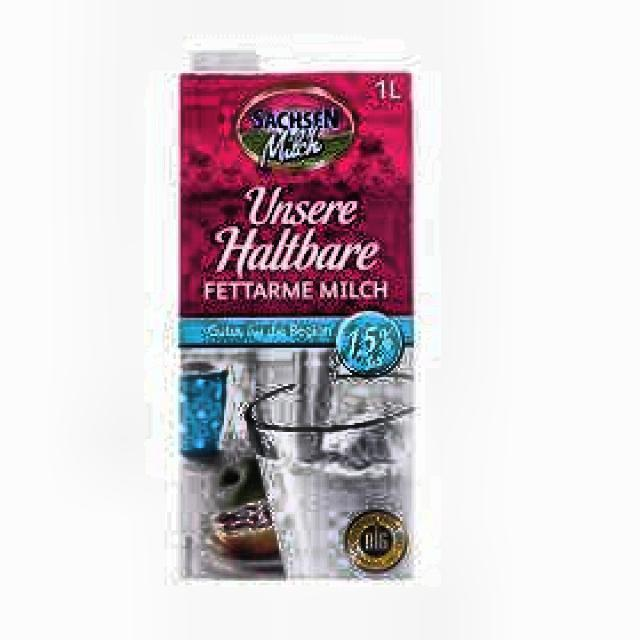cardboard: (174, 66, 416, 581)
